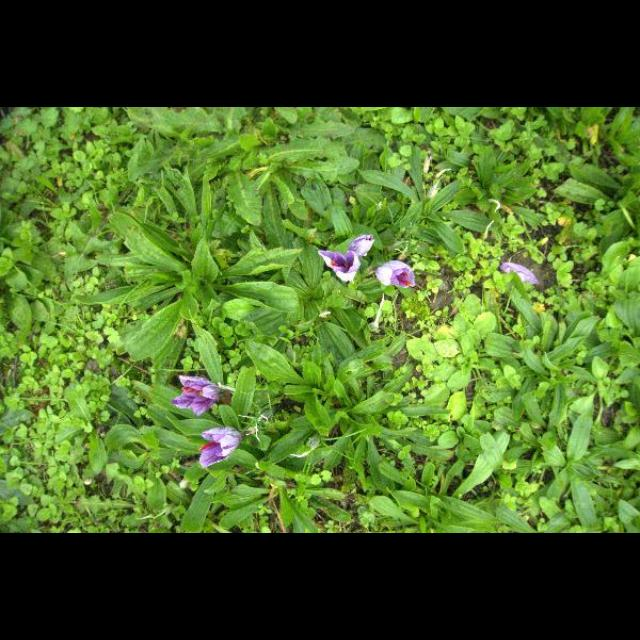flower: (172, 374, 222, 416), (199, 428, 241, 470), (317, 249, 358, 281), (377, 260, 415, 290), (350, 234, 376, 254)
